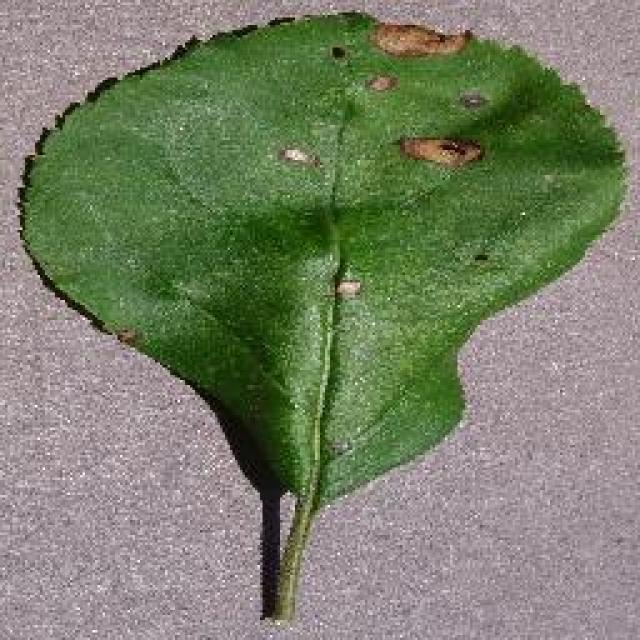apple healthy: (12, 8, 630, 622)
